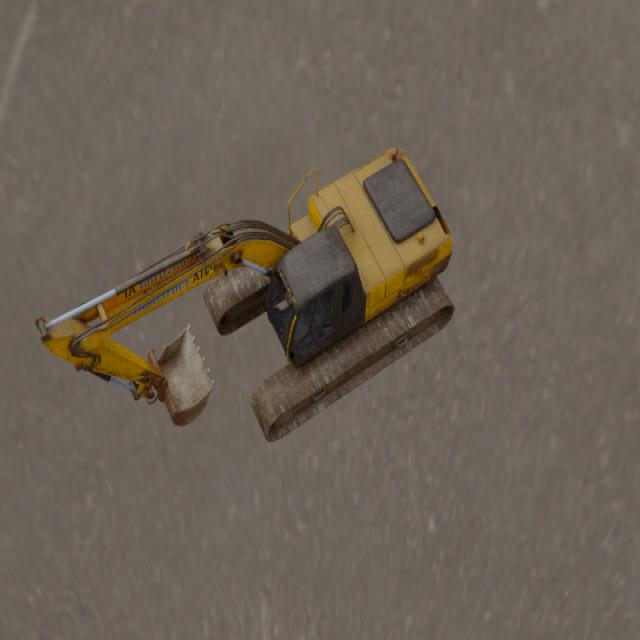excavator: (34, 146, 455, 442)
